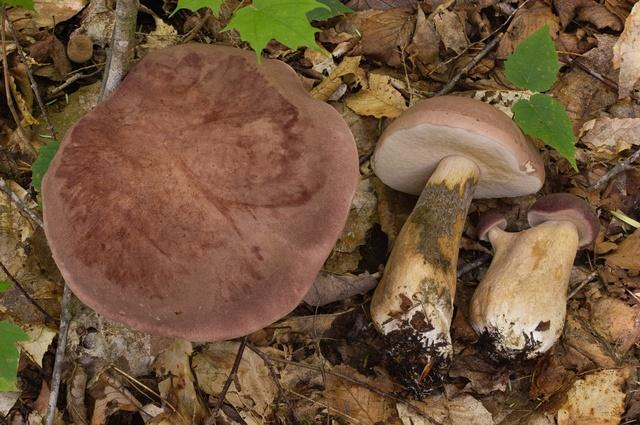poisonous_mushroom: (30, 29, 371, 346), (367, 93, 546, 393), (467, 191, 600, 365)
